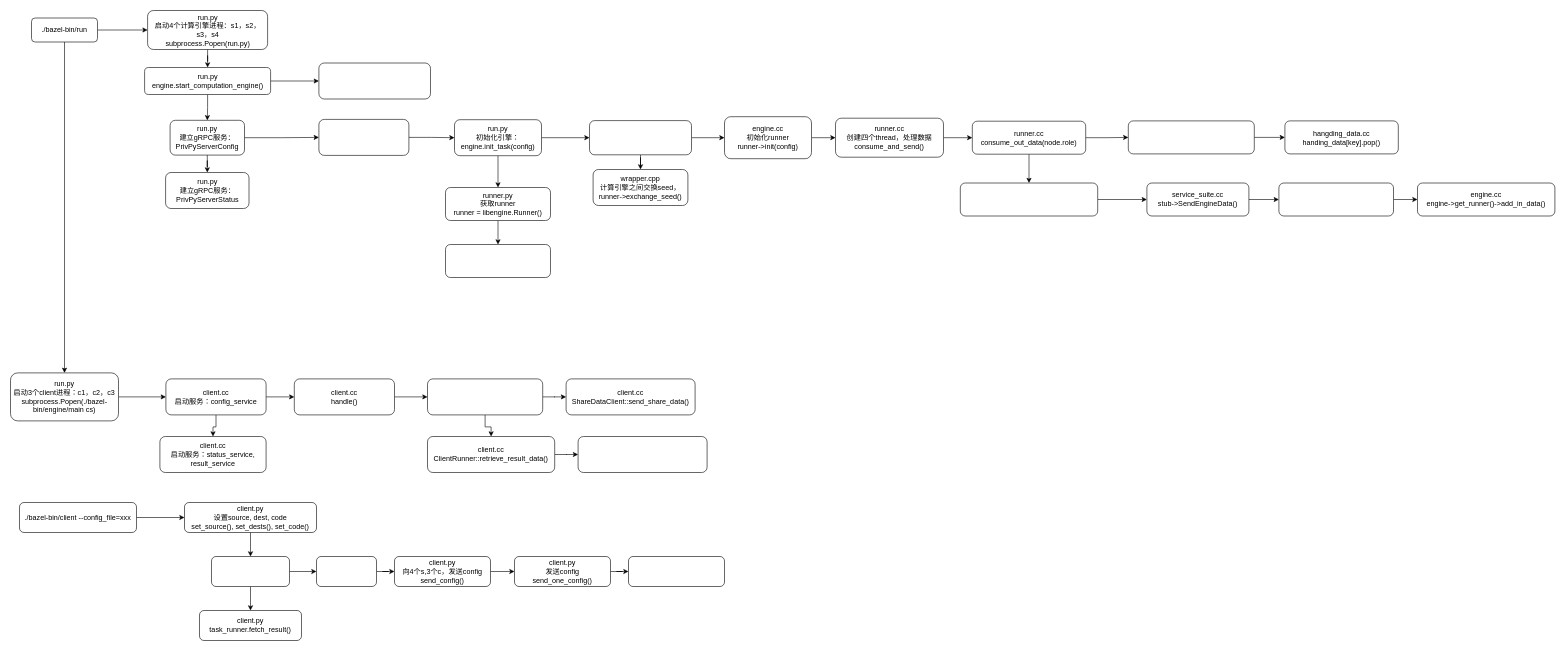
Some shapes in this 1565 by 651 pixel diagram are drawn without their labels. Each missing label, with the box of its shape:
client.cc ClientRunner::send_sources(): (427, 378, 543, 415)
client.cc ShareDataClient::get_result_data(): (578, 436, 707, 472)
client.py run_task(): (316, 556, 376, 586)
client.py task_runner.run(): (211, 556, 290, 586)
client.py 调用配置设置gRpc服务 SetExecutableConfig(): (628, 556, 724, 586)
engine.cc 建立服务greet、share、engine start_computation_enginee(): (318, 62, 430, 99)
run.py 设置配置文件处理函数：SetExecutableConfig(): (318, 119, 409, 155)
runner.cc 发送enginee数据 engine_data_client -> send_engine_data( );: (960, 182, 1098, 216)
runner.h out_data->consume_hanging_data(): (1128, 120, 1254, 154)
runner.py 清理数据 engine.end_task(): (445, 244, 550, 278)
service_suite.cc engine_data_handler->handle(): (1278, 182, 1394, 216)
wrapper.cpp 初始化runner engine->new_runner(config): (589, 120, 692, 155)
